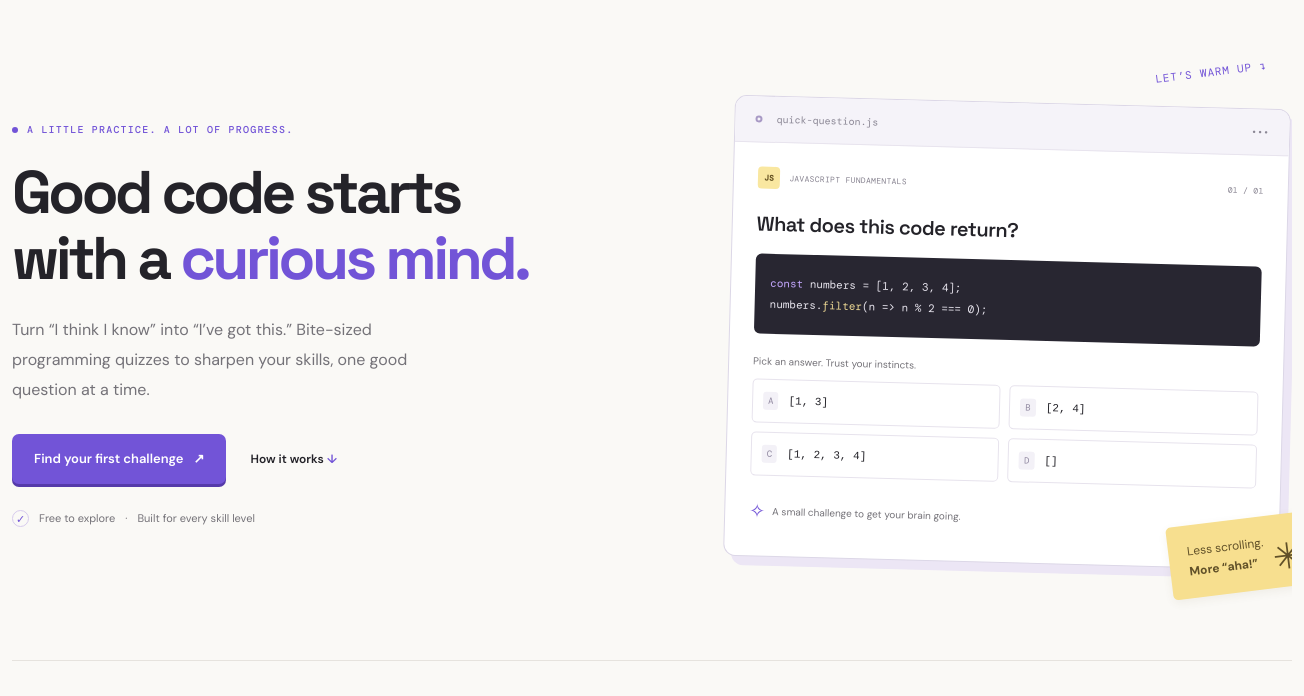
Test: home practice question gives feedback and allows another attempt
Expected: the heading "Good code starts" is shown, [12,154,528,297]
Click the button "A [1, 3]" at (877, 404), box [752,378,1001,429]
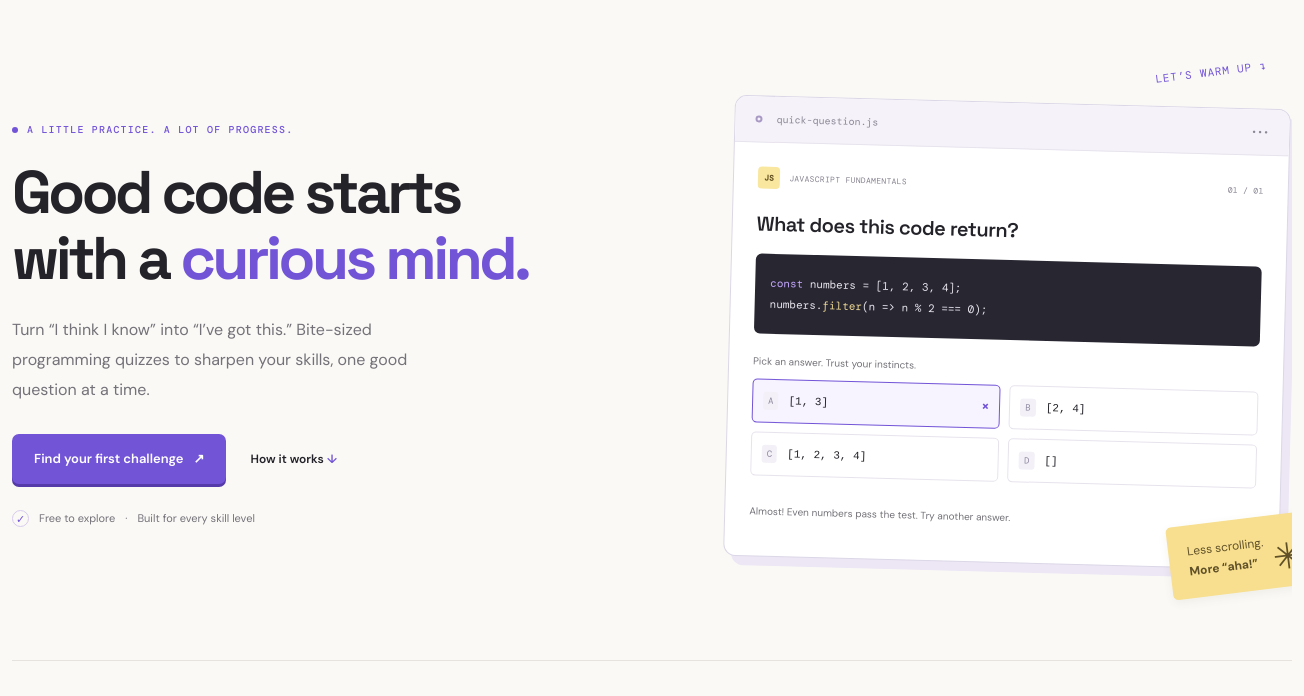
Result: the text "Almost! Even numbers pass the test. Try another answer." is shown at [749,505,1011,524]
Click the button "B [2, 4]" at (1134, 410), box [1009,385,1259,436]
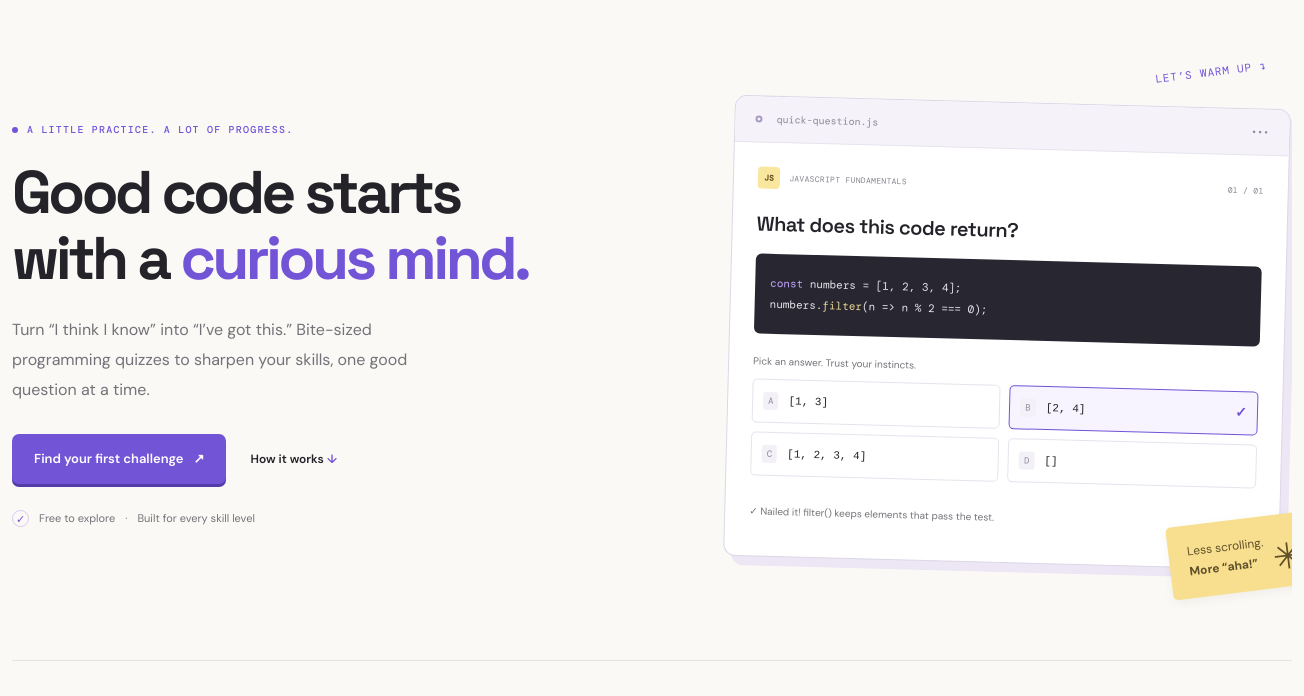
Result: the text "✓ Nailed it! filter() keeps elements that pass the test." is shown at [749,505,994,524]
